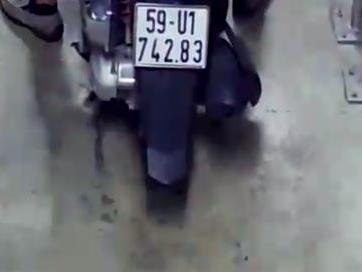num_plate: (137, 3, 207, 68)
